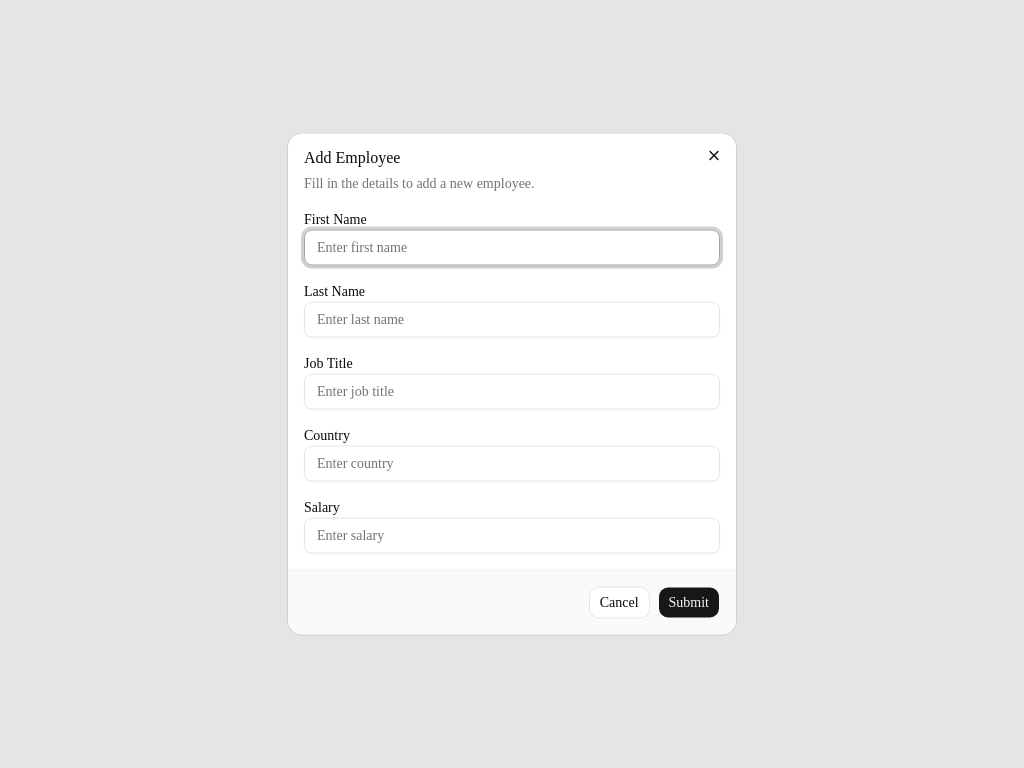
Test: EmployeeDialog › Add Employee Mode › displays validation error when required fields are empty
The image size is (1024, 768).
Try to submit without filling fields
Click the button "Submit". click: (689, 602)
box: 658,586 -> 720,618
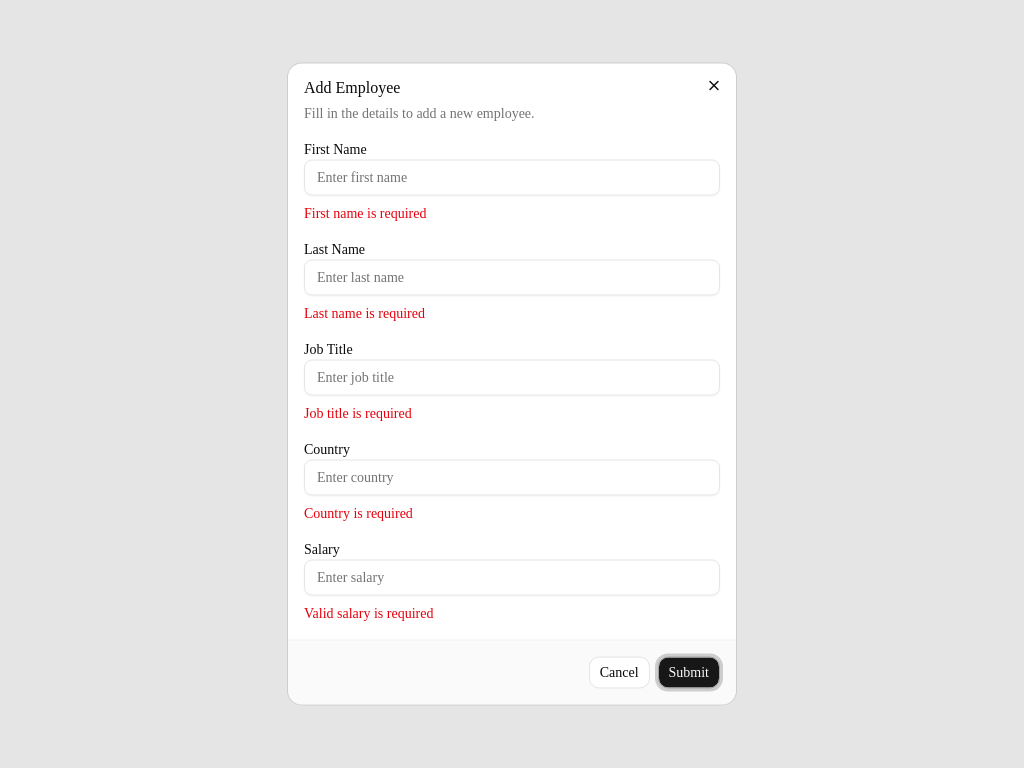
Result: the text "First name is required" is shown at 304,206 -> 426,220
